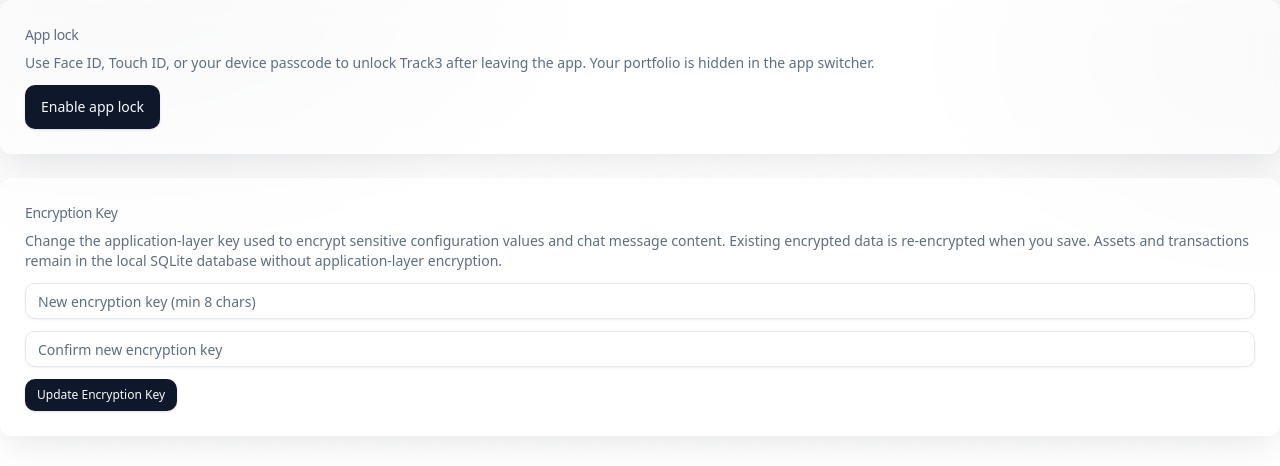
Scenario: Data Management › lets an iPhone owner enable app lock after native authentication
This screenshot has width=1280, height=466.
Click the button "Enable app lock". click: (92, 107)
box: [25,85,160,129]
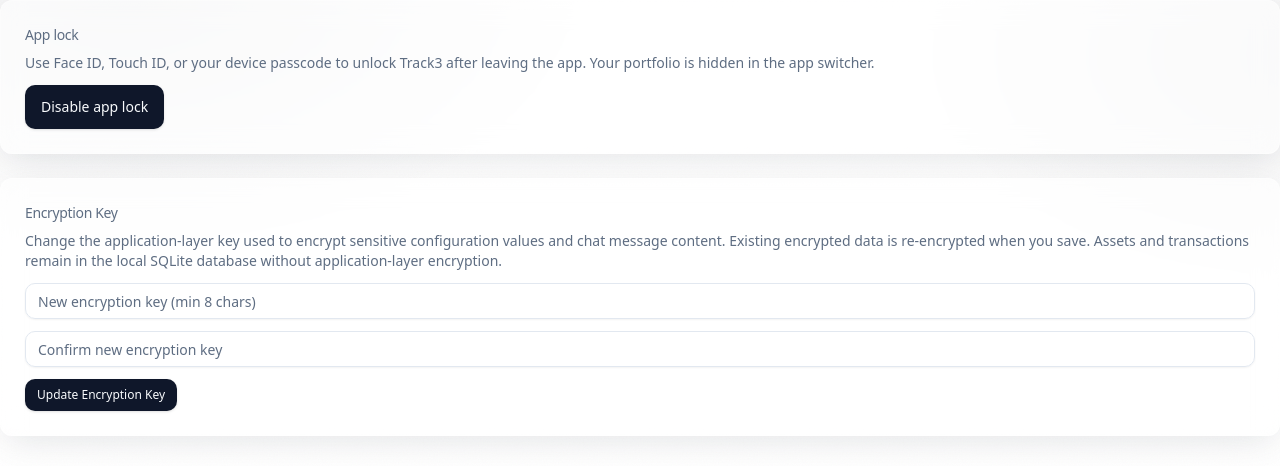
Check: the button "Disable app lock" is shown, box [25,85,164,129]
